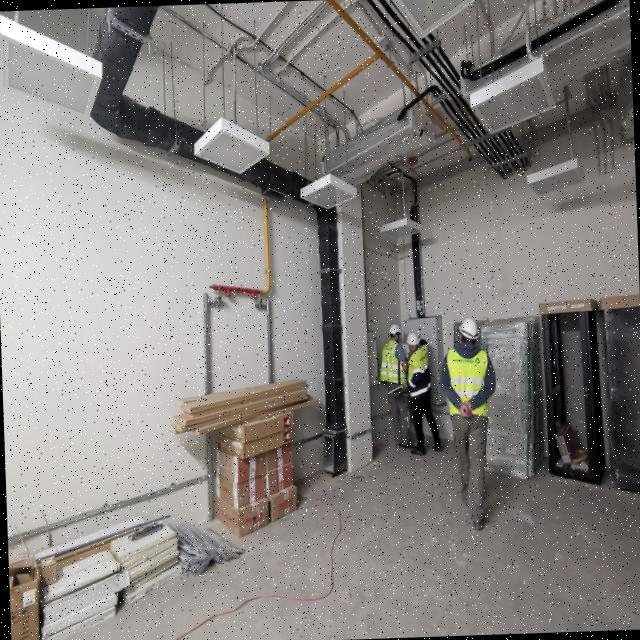Helmet: (458, 320, 480, 344), (407, 333, 421, 348), (389, 326, 402, 339)
Jacket: (448, 340, 487, 417), (382, 337, 408, 387), (408, 346, 433, 396)
